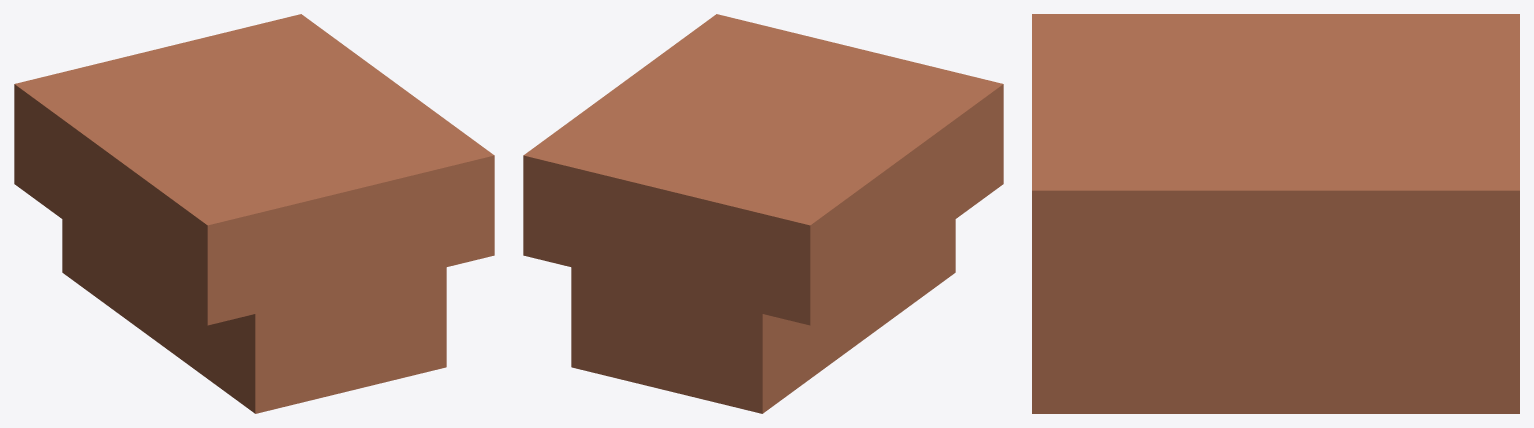
The model's file is Bread.glb.
3 views of the same model, side by side, from view 1: azimuth 30°, elevation 25°; view 2: azimuth 150°, elevation 25°; view 3: azimuth 270°, elevation 25° (orthographic). The views are drawn at different scales.
Parts seen in each view (by area): view 1: Bread; view 2: Bread; view 3: Bread.
Part boxes in pixels (x1,y1,x2,y2): Bread: [14, 14, 494, 413]; Bread: [523, 14, 1003, 413]; Bread: [1032, 14, 1519, 413].
Bounding box in the file's own units: 0.375 × 0.25 × 0.4375.
1 material, 1 textured.
